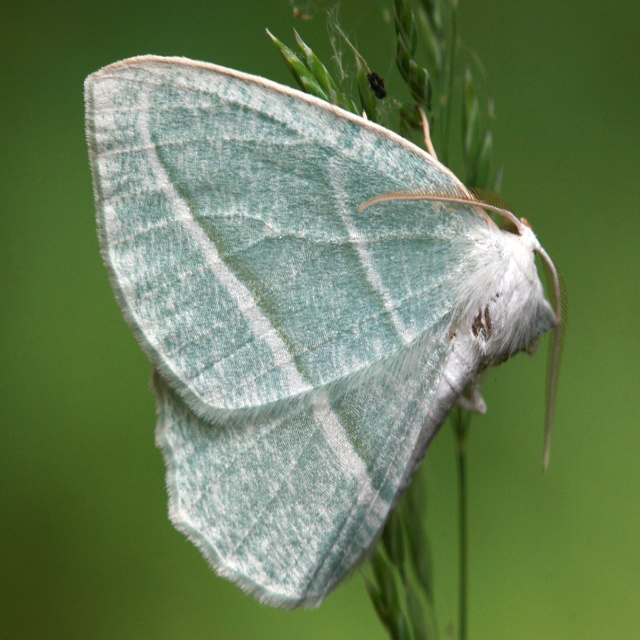Butterfly: (120, 79, 593, 583)
